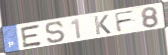1: (70, 18, 82, 40)
8: (140, 6, 161, 29)
E: (20, 23, 44, 49)
F: (113, 9, 137, 34)
K: (93, 13, 113, 36)
S: (44, 20, 67, 44)
